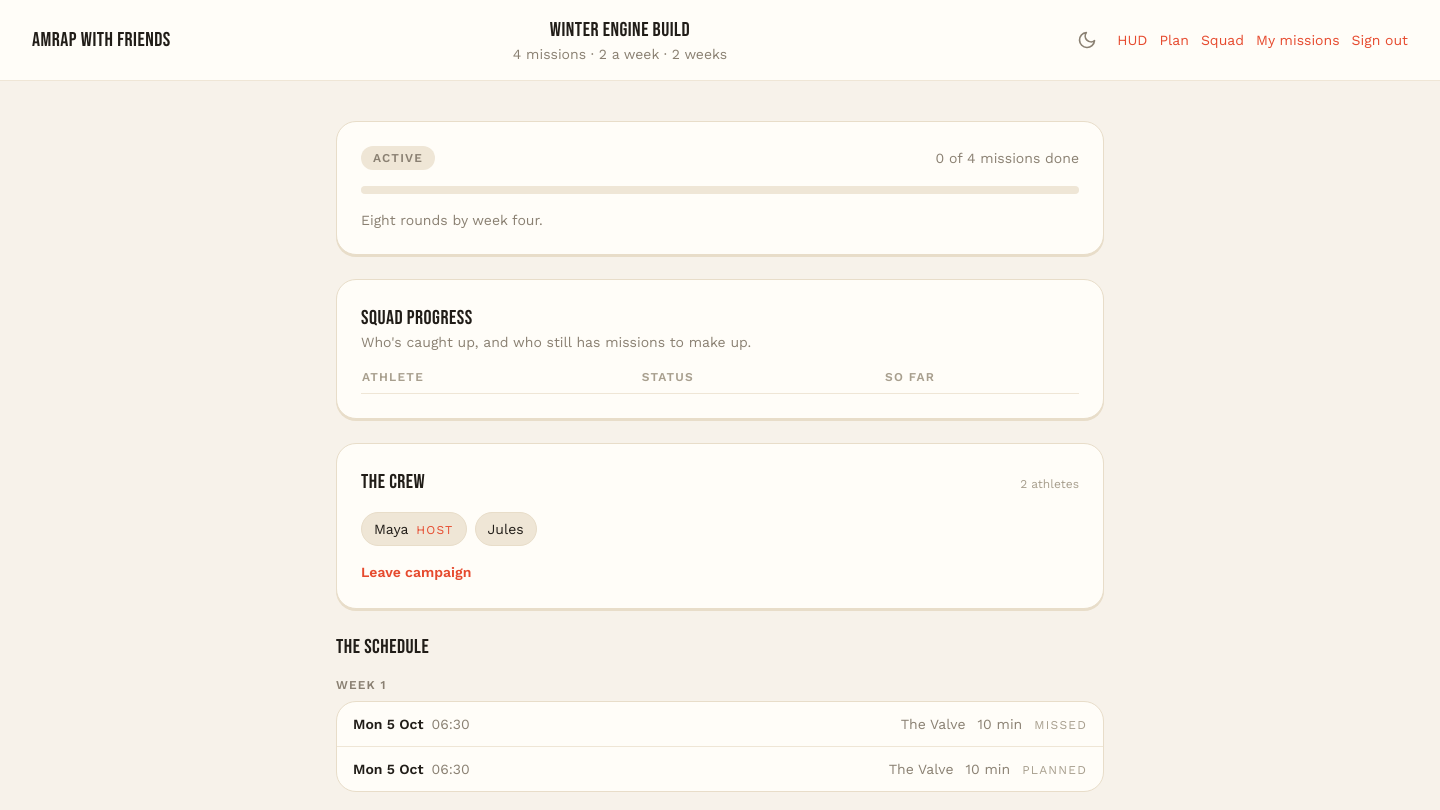
CampaignDetailPage › lets a member back out of leaving
Click the button "Leave campaign" at coordinates (416, 572), box [361,562,471,582]
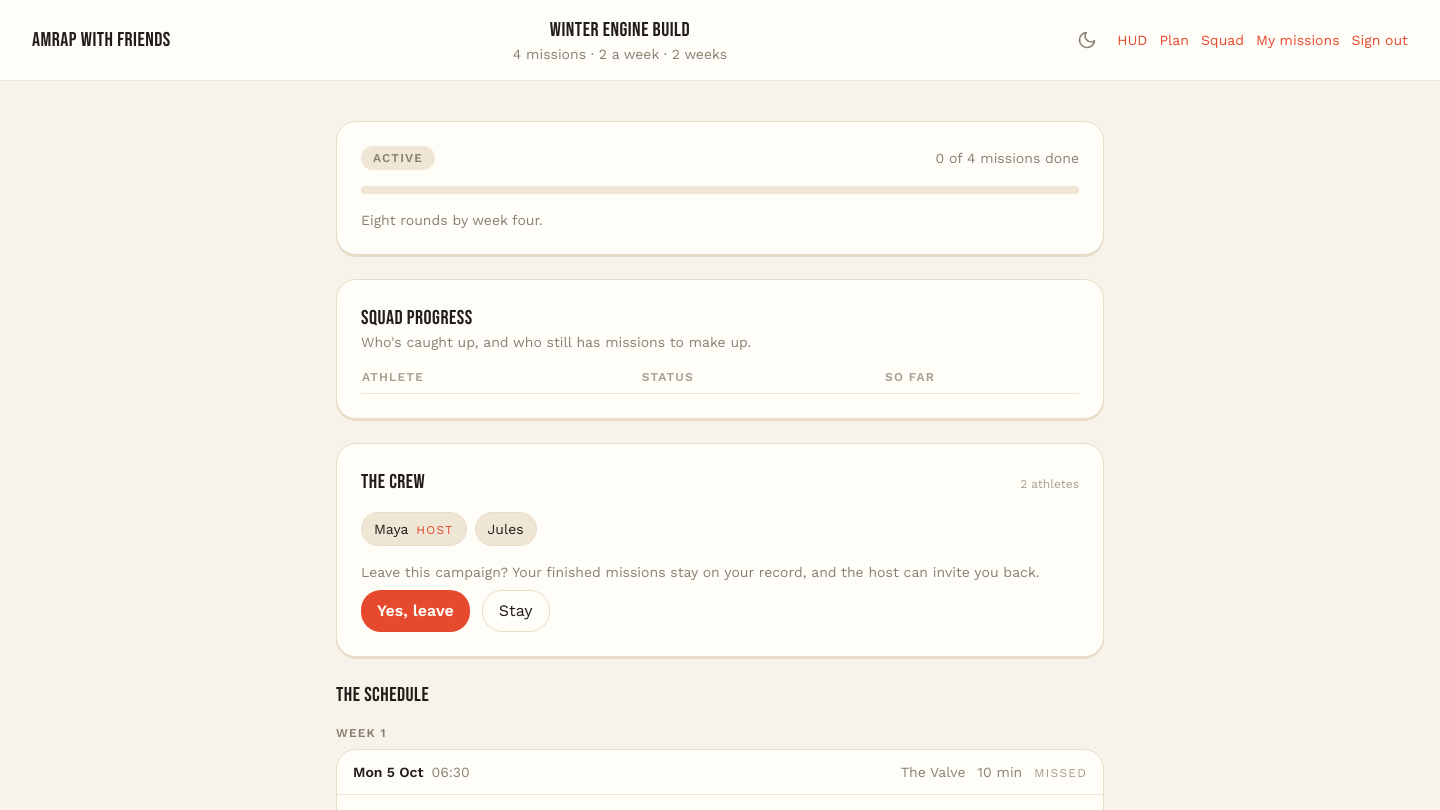
Click the button "Stay" at coordinates (516, 611), box [482,590,550,632]
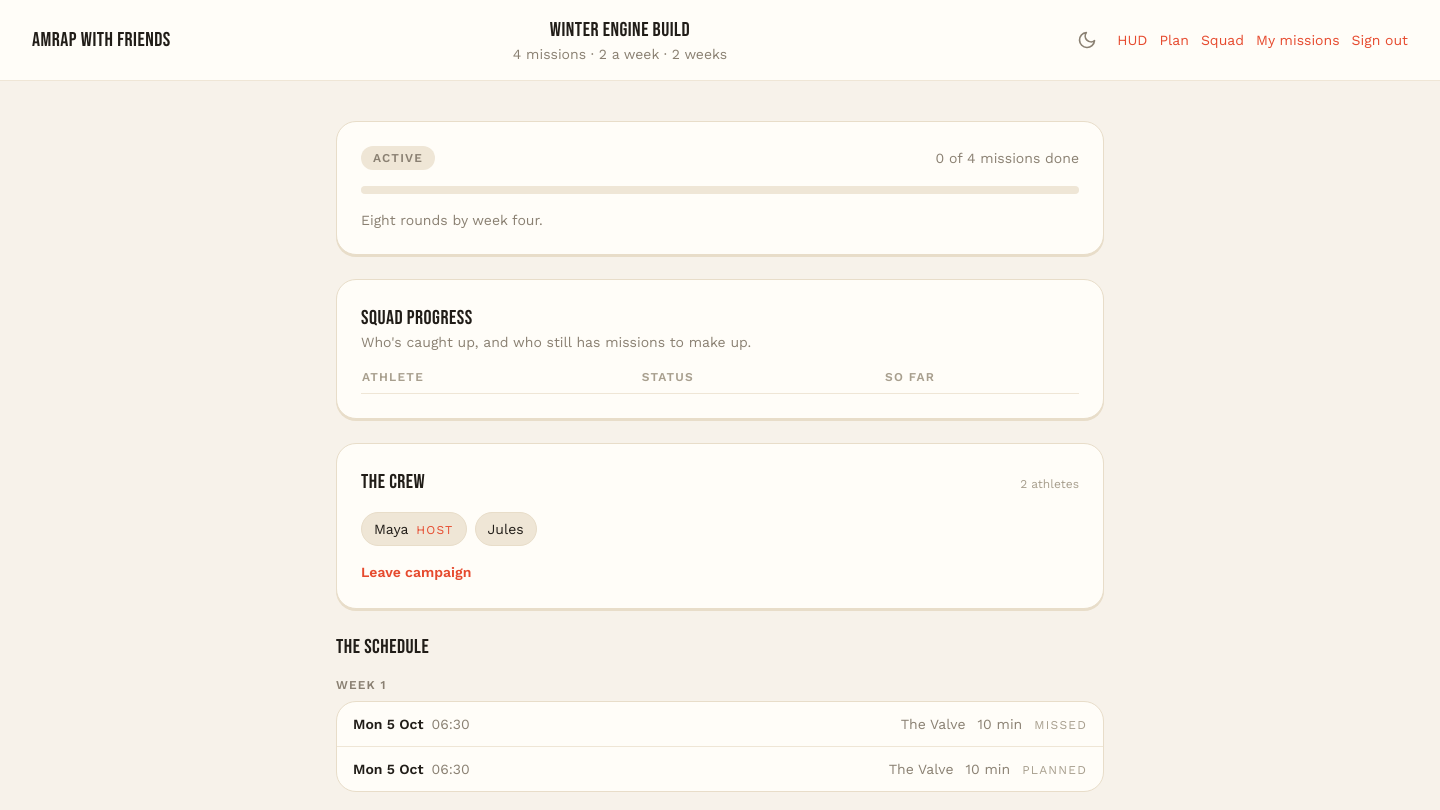
Now the button "Leave campaign" is shown, box [361,562,471,582]
